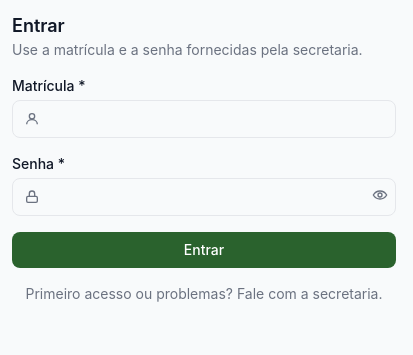
Test: LoginForm › mostra "Matrícula ou senha inválidos." quando a API responde 401
Step 1. Type "2026000001" into the field labelled "Matrícula *" → {"x": 204, "y": 119}, box 12,100 -> 396,138
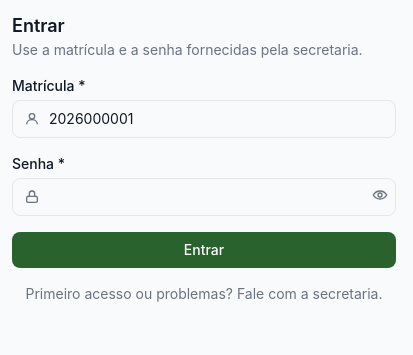
Step 2. Type "errada" into the password field labelled "Senha *" → {"x": 204, "y": 197}, box 12,178 -> 396,216
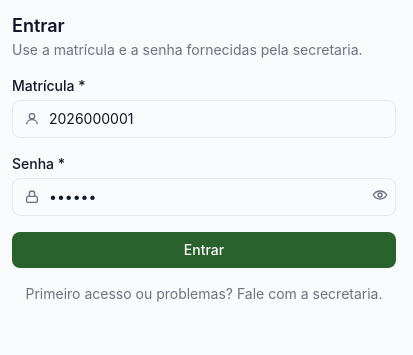
Step 3. Click the button "Entrar" → {"x": 204, "y": 250}, box 12,232 -> 396,268
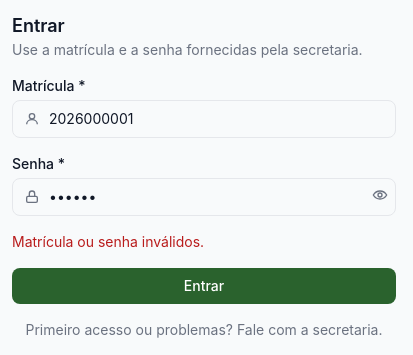
Expected: the text "Matrícula ou senha inválidos." is shown, 12,233 -> 204,250
